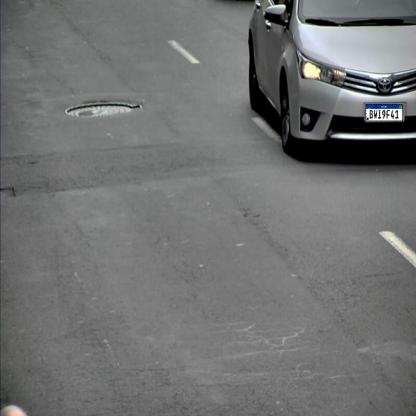PlacaM: (366, 104, 403, 121)
